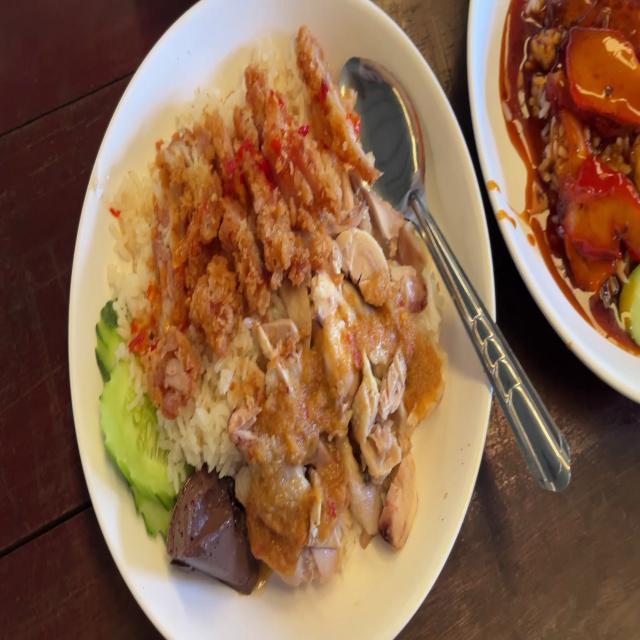chicken_rice: (242, 188, 435, 556)
noodle: (171, 465, 255, 592)
